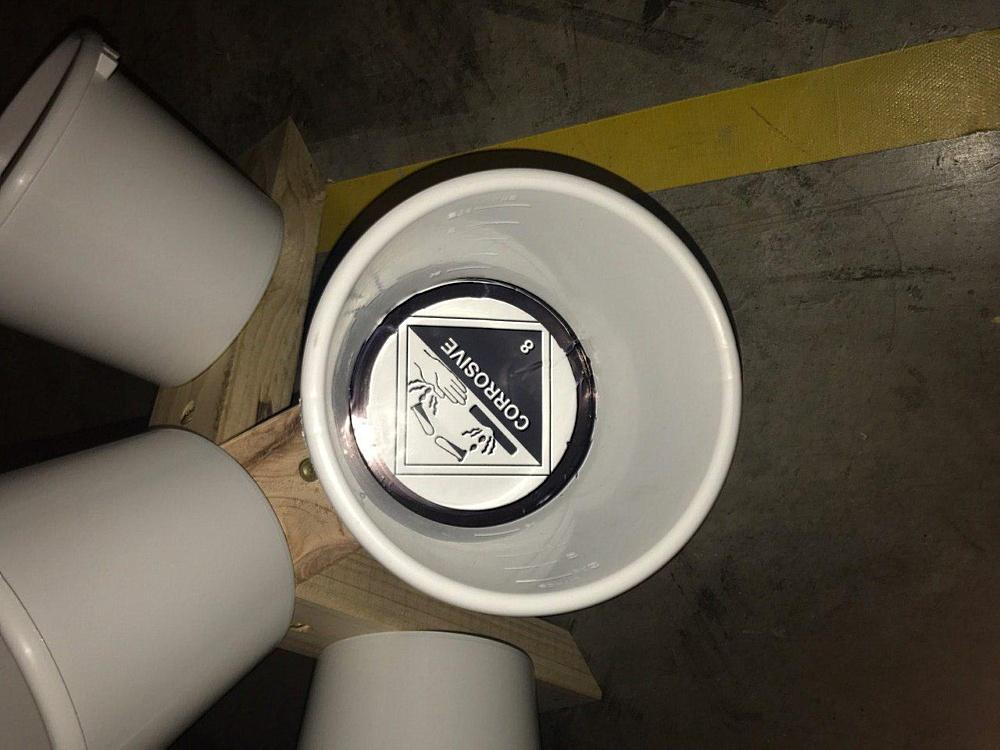corrosive: (396, 316, 556, 478)
